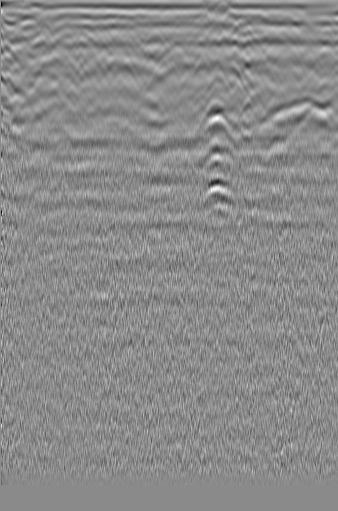가스: (195, 135, 241, 173)
상수: (305, 42, 337, 70)
오수: (1, 34, 39, 70)
우수: (148, 40, 194, 76)
